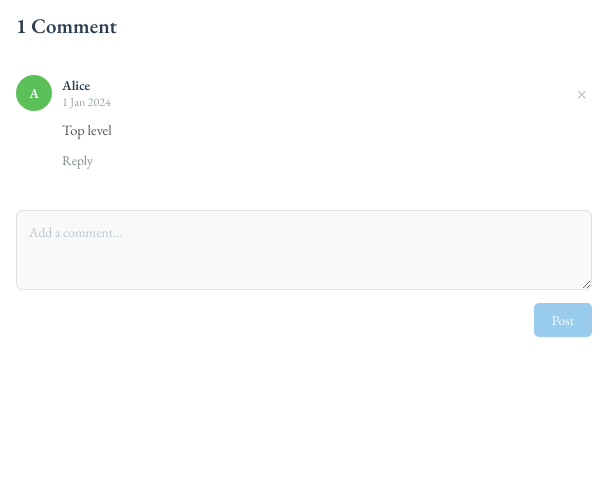
it: reply flow › submitting reply POSTs with parentId and reply appears nested
Check: the text "Top level" is shown, box x1=62 y1=120 x2=112 y2=139
Click the button "Reply". click: (78,160)
box: x1=62 y1=151 x2=93 y2=169
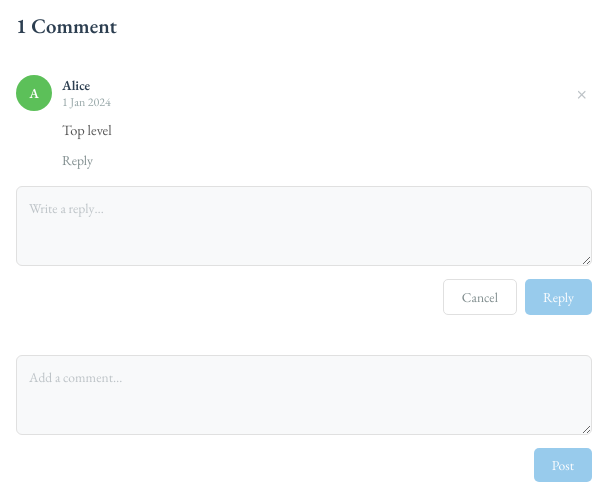
Type "My reply" into the text box with placeholder "Write a reply…". click: (304,226)
box: x1=16 y1=186 x2=592 y2=266
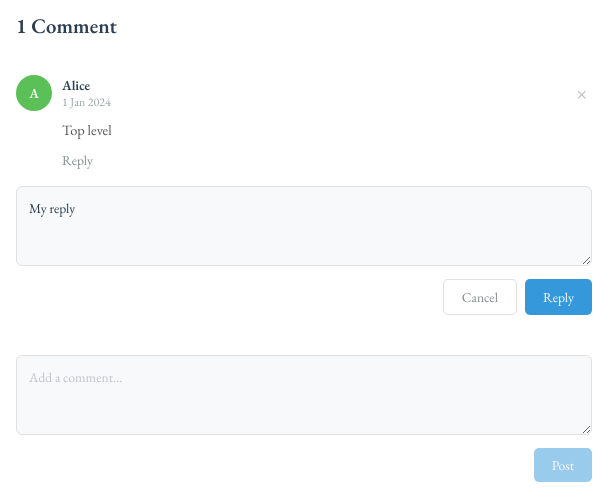
Submit the form with placeholder "Write a reply…", box x1=16 y1=186 x2=592 y2=315
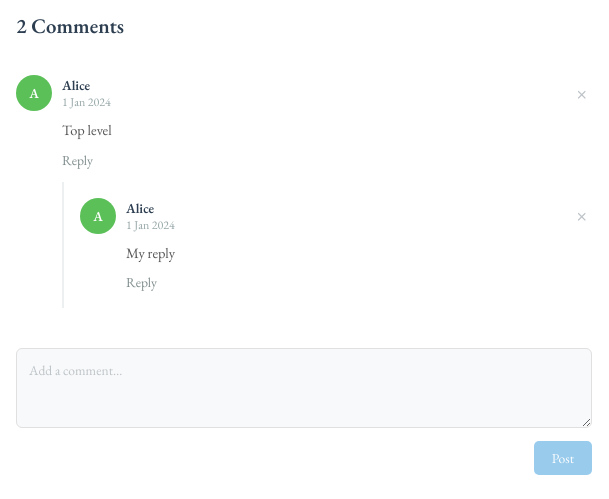
Check: the text "My reply" is shown, box x1=126 y1=243 x2=175 y2=262
